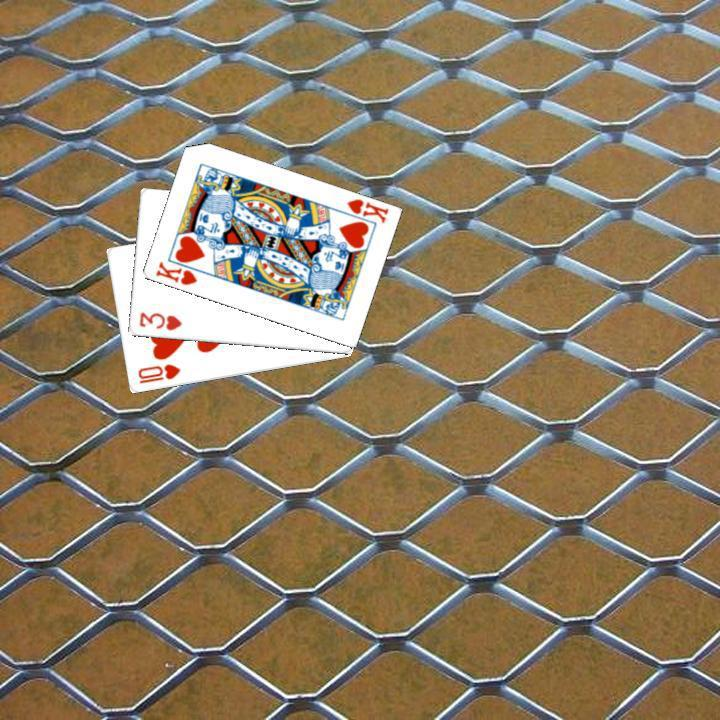10: (133, 360, 182, 386)
3: (135, 308, 183, 333)
K: (151, 257, 199, 287), (342, 195, 390, 225)
